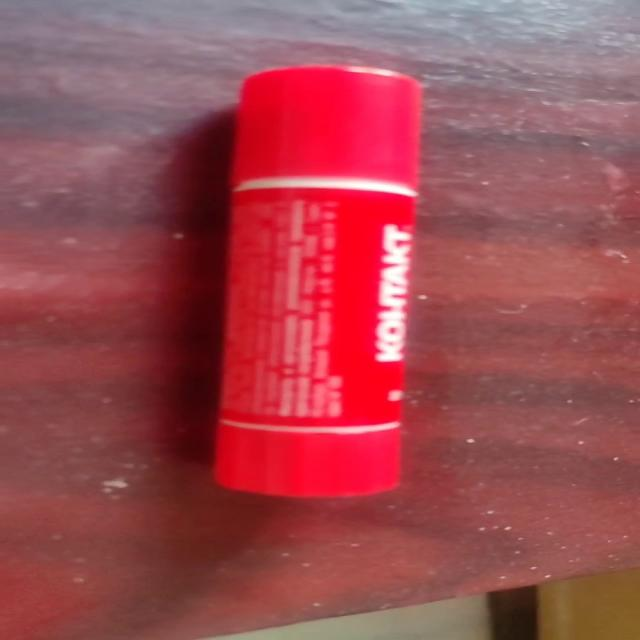glue: (213, 64, 423, 498)
